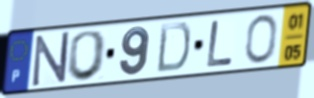9: (117, 23, 152, 78)
D: (154, 21, 193, 75)
L: (205, 18, 236, 69)
N: (31, 30, 71, 89)
O: (64, 28, 110, 83), (244, 13, 279, 65)
